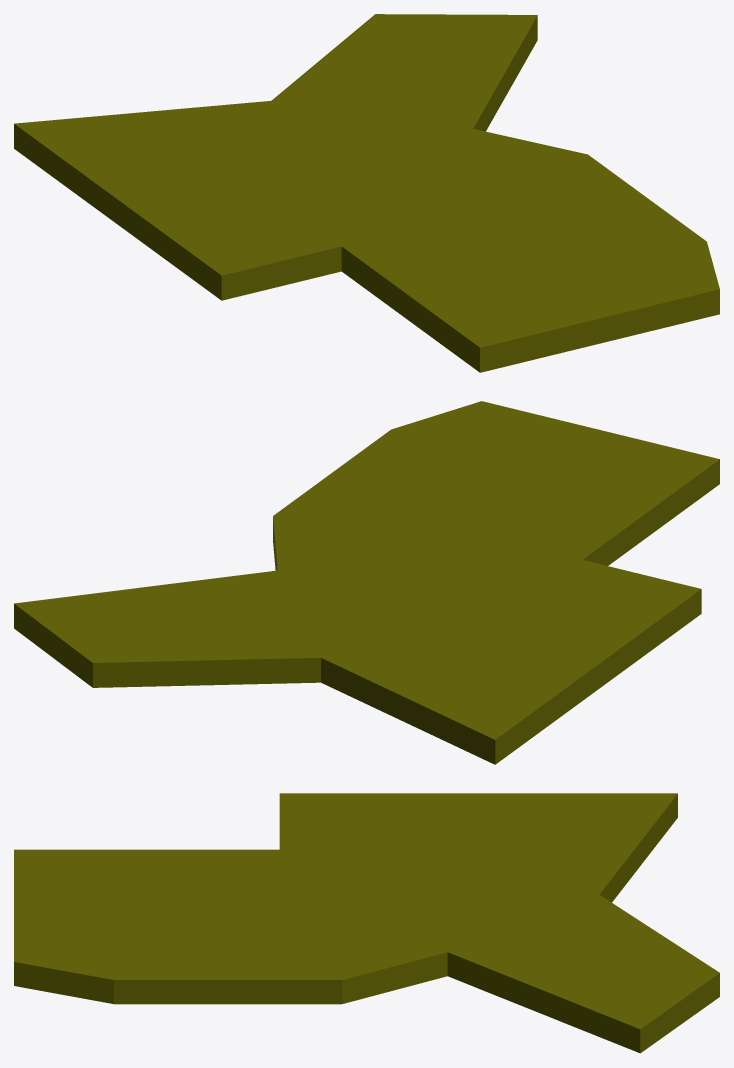
The model's file is x_0_boloto_4_1_rmstrd.fbx.
3 views of the same model, one above another, from view 1: azimuth 30°, elevation 25°; view 2: azimuth 150°, elevation 25°; view 3: azimuth 270°, elevation 25° (orthographic). The views are drawn at different scales.
Visible parts, largest first — view 1: x_0_boloto_4_1_rmstrd1; view 2: x_0_boloto_4_1_rmstrd1; view 3: x_0_boloto_4_1_rmstrd1.
Part boxes in pixels (<box>): x_0_boloto_4_1_rmstrd1: <box>14,14,719,372</box>; x_0_boloto_4_1_rmstrd1: <box>14,401,719,764</box>; x_0_boloto_4_1_rmstrd1: <box>14,793,719,1053</box>.
Bounding box in the file's own units: 4.2 × 0.2 × 5.32.
